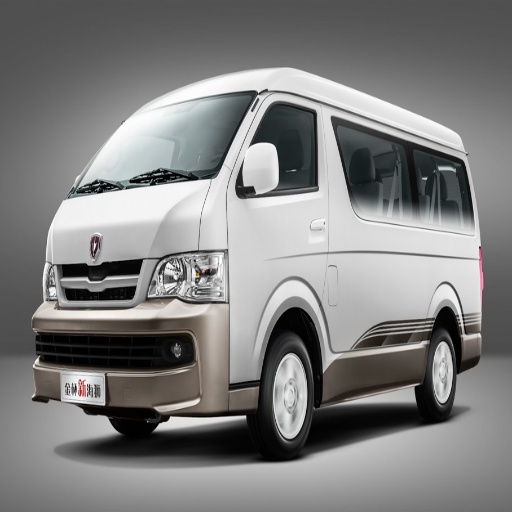front_bumper: (33, 231, 260, 419)
front_glass: (73, 94, 255, 195)
front_left_door: (228, 98, 326, 266)
trunk: (299, 253, 480, 353)
